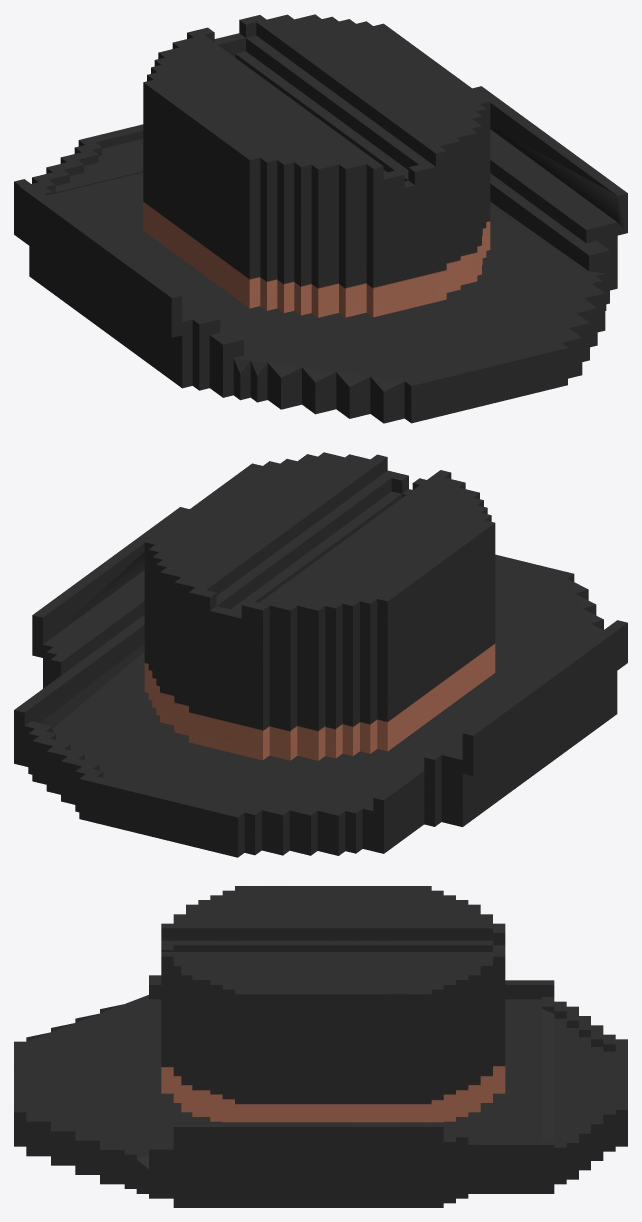
Rendered from cowboy.glb.
3 renders of one model, top to bottom at view 1: azimuth 30°, elevation 25°; view 2: azimuth 150°, elevation 25°; view 3: azimuth 270°, elevation 25°, orthographic. The views are drawn at different scales.
Parts seen in each view (by area): view 1: cowboy.001; view 2: cowboy.001; view 3: cowboy.001.
Part boxes in pixels (x1,y1,x2,y2): cowboy.001: (14, 14, 627, 423); cowboy.001: (14, 452, 627, 857); cowboy.001: (14, 886, 627, 1207).
Size of the model in its own units: 4.66 by 1.84 by 5.97.
Materials: 1 (1 with a texture image).
